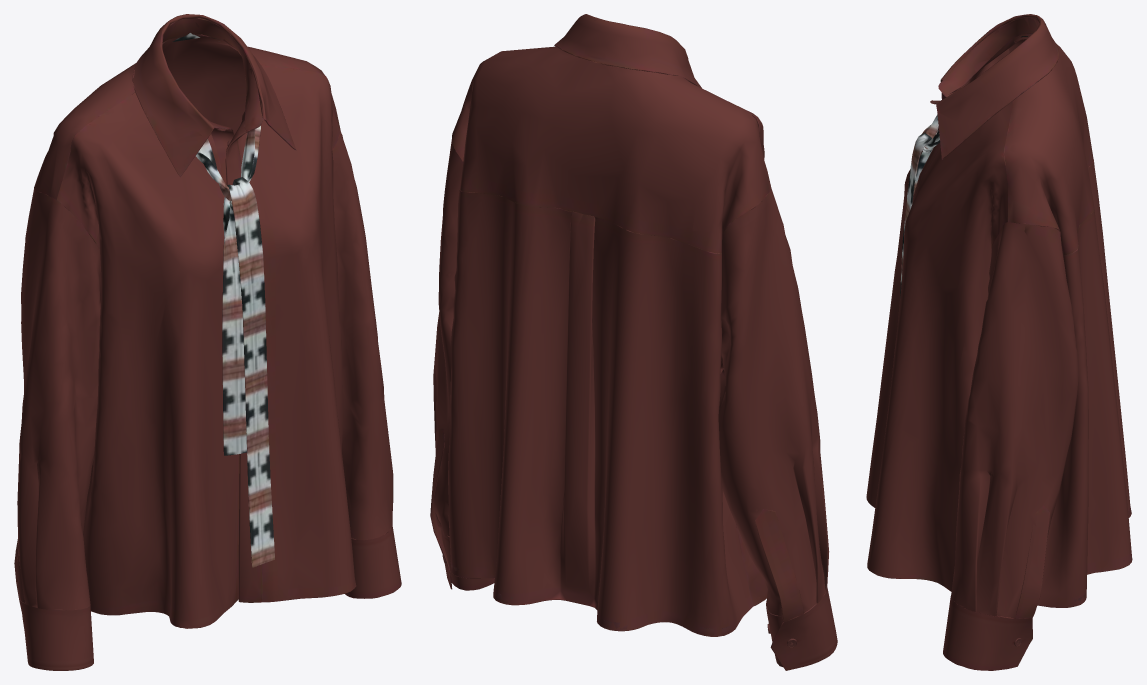
File: western-shirt.glb
3 views of the same model, side by side, from view 1: azimuth 30°, elevation 25°; view 2: azimuth 150°, elevation 25°; view 3: azimuth 270°, elevation 25° (orthographic). The views are drawn at different scales.
Visible parts, largest first — view 1: western-shirt_surface_0; view 2: western-shirt_surface_0; view 3: western-shirt_surface_0.
Boxes of the visible parts, box(x1,y1,x2,y2) form: western-shirt_surface_0: box(14, 14, 401, 670); western-shirt_surface_0: box(430, 14, 837, 670); western-shirt_surface_0: box(866, 14, 1132, 670).
Bounding box in the file's own units: 1.42 × 2.2 × 0.9291.
Materials: 1 (1 with a texture image).
